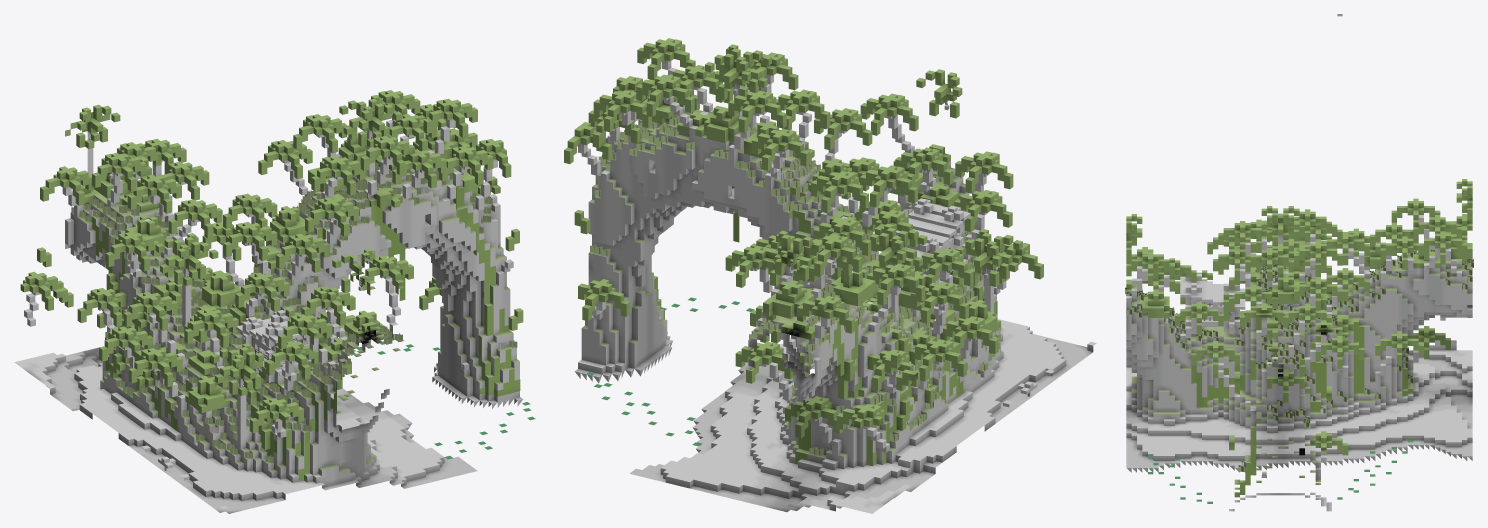
3 renders of one model, left to right at view 1: azimuth 30°, elevation 25°; view 2: azimuth 150°, elevation 25°; view 3: azimuth 270°, elevation 25°, orthographic. The views are drawn at different scales.
Parts seen in each view (by area): view 1: recorte, opaco; view 2: recorte, opaco; view 3: recorte, opaco.
Part boxes in pixels (box(x1,y1,x2,y2)): recorte: box(20, 90, 535, 482); opaco: box(14, 110, 523, 513); recorte: box(564, 38, 1054, 465); opaco: box(574, 60, 1096, 513); recorte: box(1125, 14, 1473, 503); opaco: box(1126, 215, 1472, 511).
Bounding box in the file's own units: 64.2 × 72.5 × 64.41.
